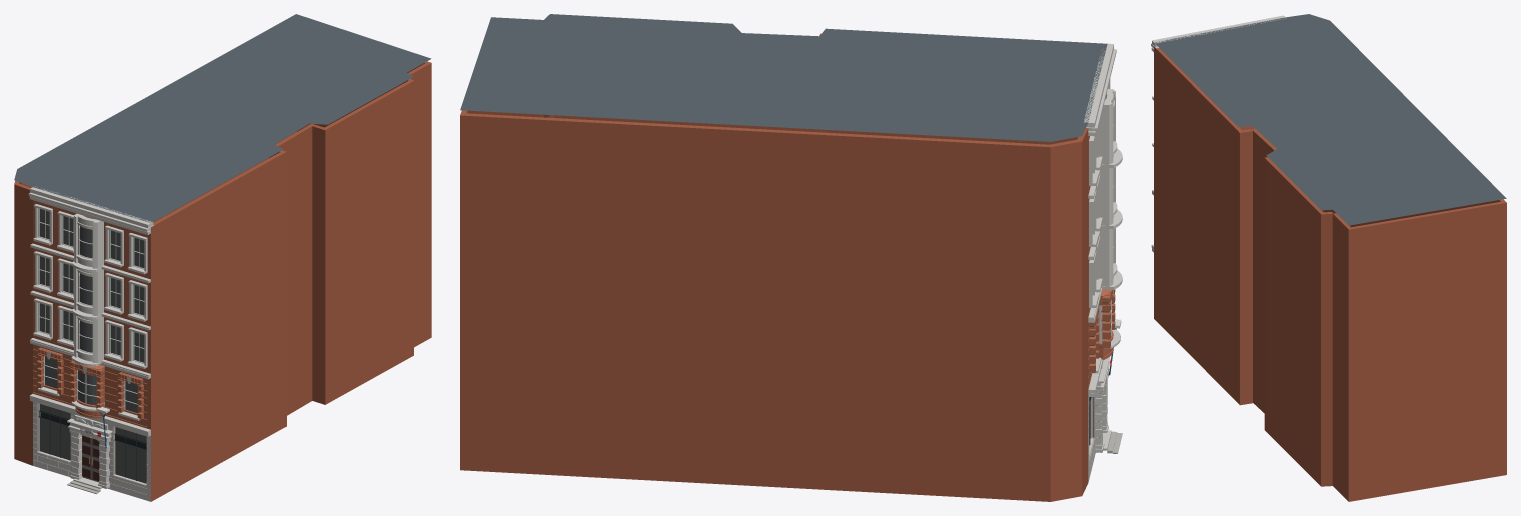
Rendered from ksw-exterior-61f6a8a3f935.glb.
3 renders of one model, left to right at view 1: azimuth 30°, elevation 25°; view 2: azimuth 150°, elevation 25°; view 3: azimuth 270°, elevation 25°, orthographic. The views are drawn at different scales.
Parts seen in each view (by area): view 1: KSW.001; view 2: KSW.001; view 3: KSW.001.
Boxes of the visible parts, box(x1,y1,x2,y2) form: KSW.001: box(14, 14, 431, 501); KSW.001: box(460, 14, 1122, 501); KSW.001: box(1151, 14, 1506, 501).
Bounding box in the file's own units: 33.77 × 20.55 × 23.99.
